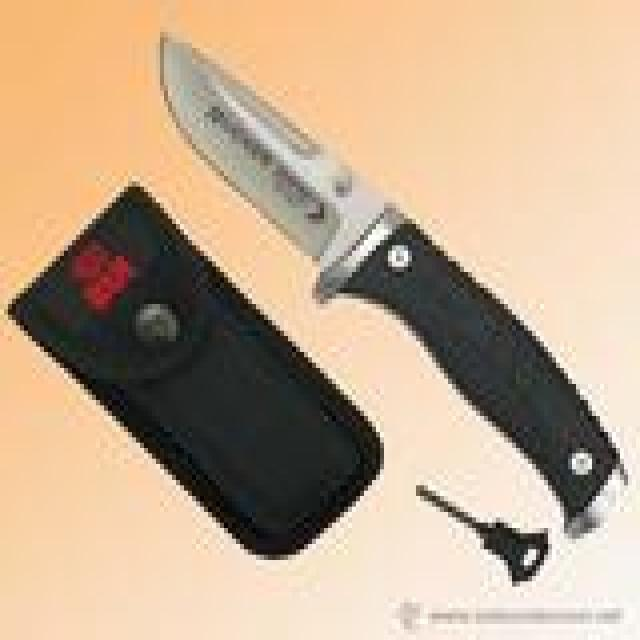Knife: (161, 19, 638, 502)
